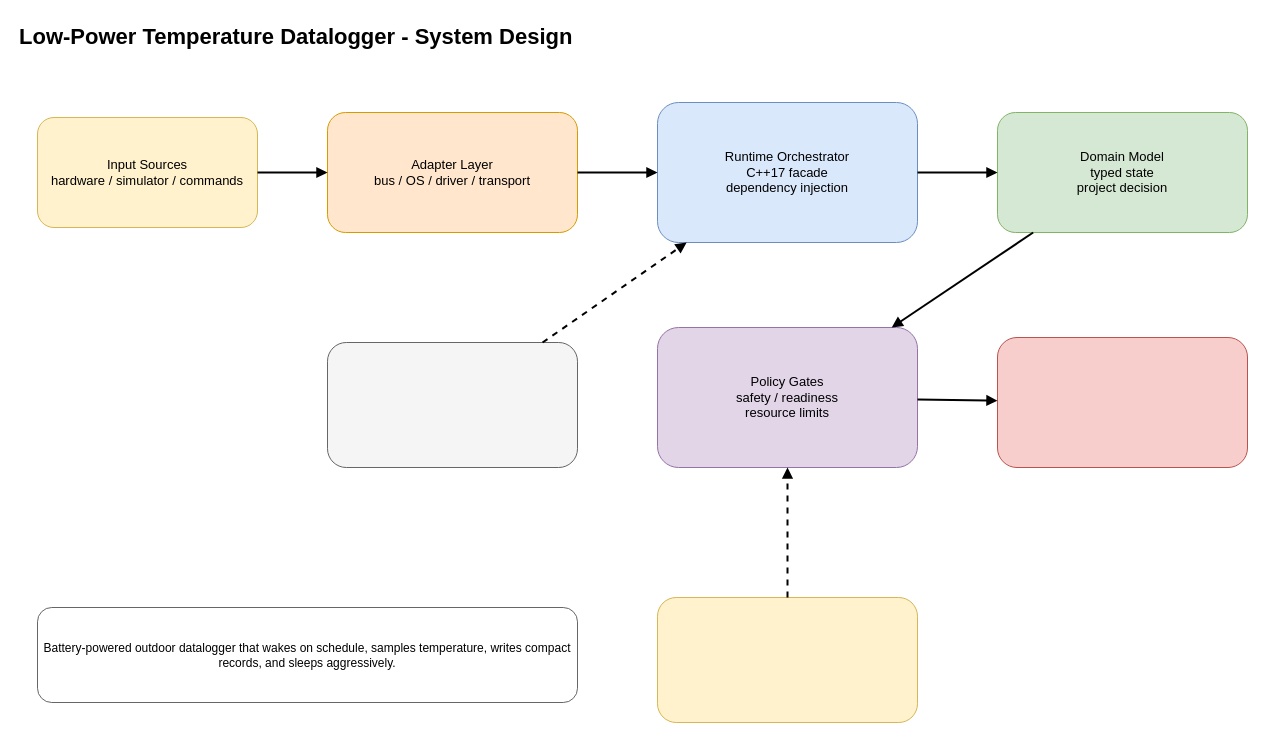
Image size: 1265x740. Some labels were removed from this diagram. The shapes that lost their labels are listed below. From the top down, each one's centre as x and y in pixels, then its label:
At (452,405): "Validation CTest / CI hardware evidence".
At (1122,402): "Evidence Outputs telemetry / logs / reports".
At (787,659): "Roadmap design / host runtime target adapters / evidence".
